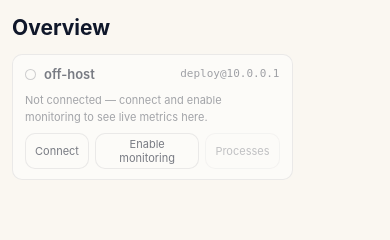
Scenario: OverviewPage off 卡一键开启监控（ui2 T3，审计 A4） › 开启失败 → 头部错误面（主机名+原因上屏）；按钮恢复可用可重试
What coordinates should you click on to do the following:
click the button with test id "overview-monitor-on-5"
I would click on:
 (147, 151)
Its box is [95,133,199,169].
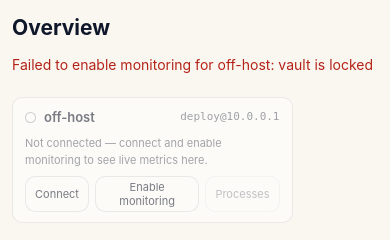
Expected: the button with test id "overview-monitor-on-5" is enabled, [95,176,199,212]
Expected: the text with test id "overview-enable-error" shows "off-host", [12,56,373,72]
Expected: the text with test id "overview-enable-error" shows "vault is locked", [12,56,373,72]
